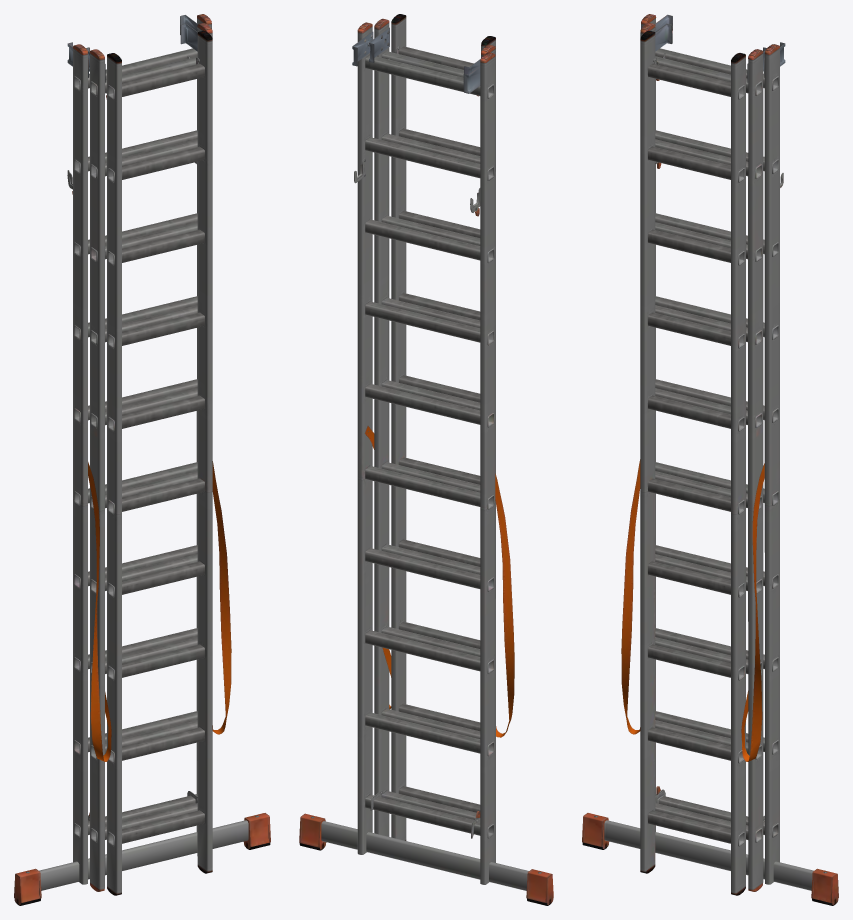
Rendered from ladder_sectioned_01_512.glb.
3 renders of one model, left to right at view 1: azimuth 30°, elevation 25°; view 2: azimuth 150°, elevation 25°; view 3: azimuth 330°, elevation 25°, orthographic.
Visible parts, largest first — view 1: ladder_section_03, ladder_section_01, ladder_section_02, ladder_ribbon; view 2: ladder_section_01, ladder_section_02, ladder_section_03, ladder_ribbon; view 3: ladder_section_03, ladder_section_01, ladder_section_02, ladder_ribbon.
Boxes of the visible parts, <box> form: ladder_section_03: <box>106,30,212,895</box>; ladder_section_01: <box>14,14,270,905</box>; ladder_section_02: <box>86,23,212,891</box>; ladder_ribbon: <box>88,461,231,761</box>; ladder_section_01: <box>299,22,553,905</box>; ladder_section_02: <box>369,18,495,862</box>; ladder_section_03: <box>388,14,495,840</box>; ladder_ribbon: <box>365,426,514,737</box>; ladder_section_03: <box>640,30,745,895</box>; ladder_section_01: <box>582,14,838,905</box>; ladder_section_02: <box>640,23,766,891</box>; ladder_ribbon: <box>621,459,764,761</box>.
Bounding box in the file's own units: 0.6616 × 2.13 × 0.1776.
Materials: 1 (1 with a texture image).
